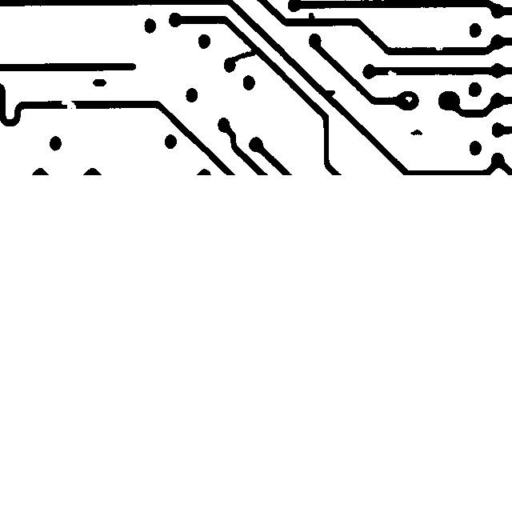copper: (85, 71, 114, 94), (402, 122, 430, 142)
mousebite: (380, 62, 404, 82), (427, 38, 450, 58)
open: (54, 92, 83, 120)
pin-hole: (398, 89, 419, 110)
short: (220, 40, 266, 70)
spur: (300, 5, 322, 28), (318, 82, 342, 103)
